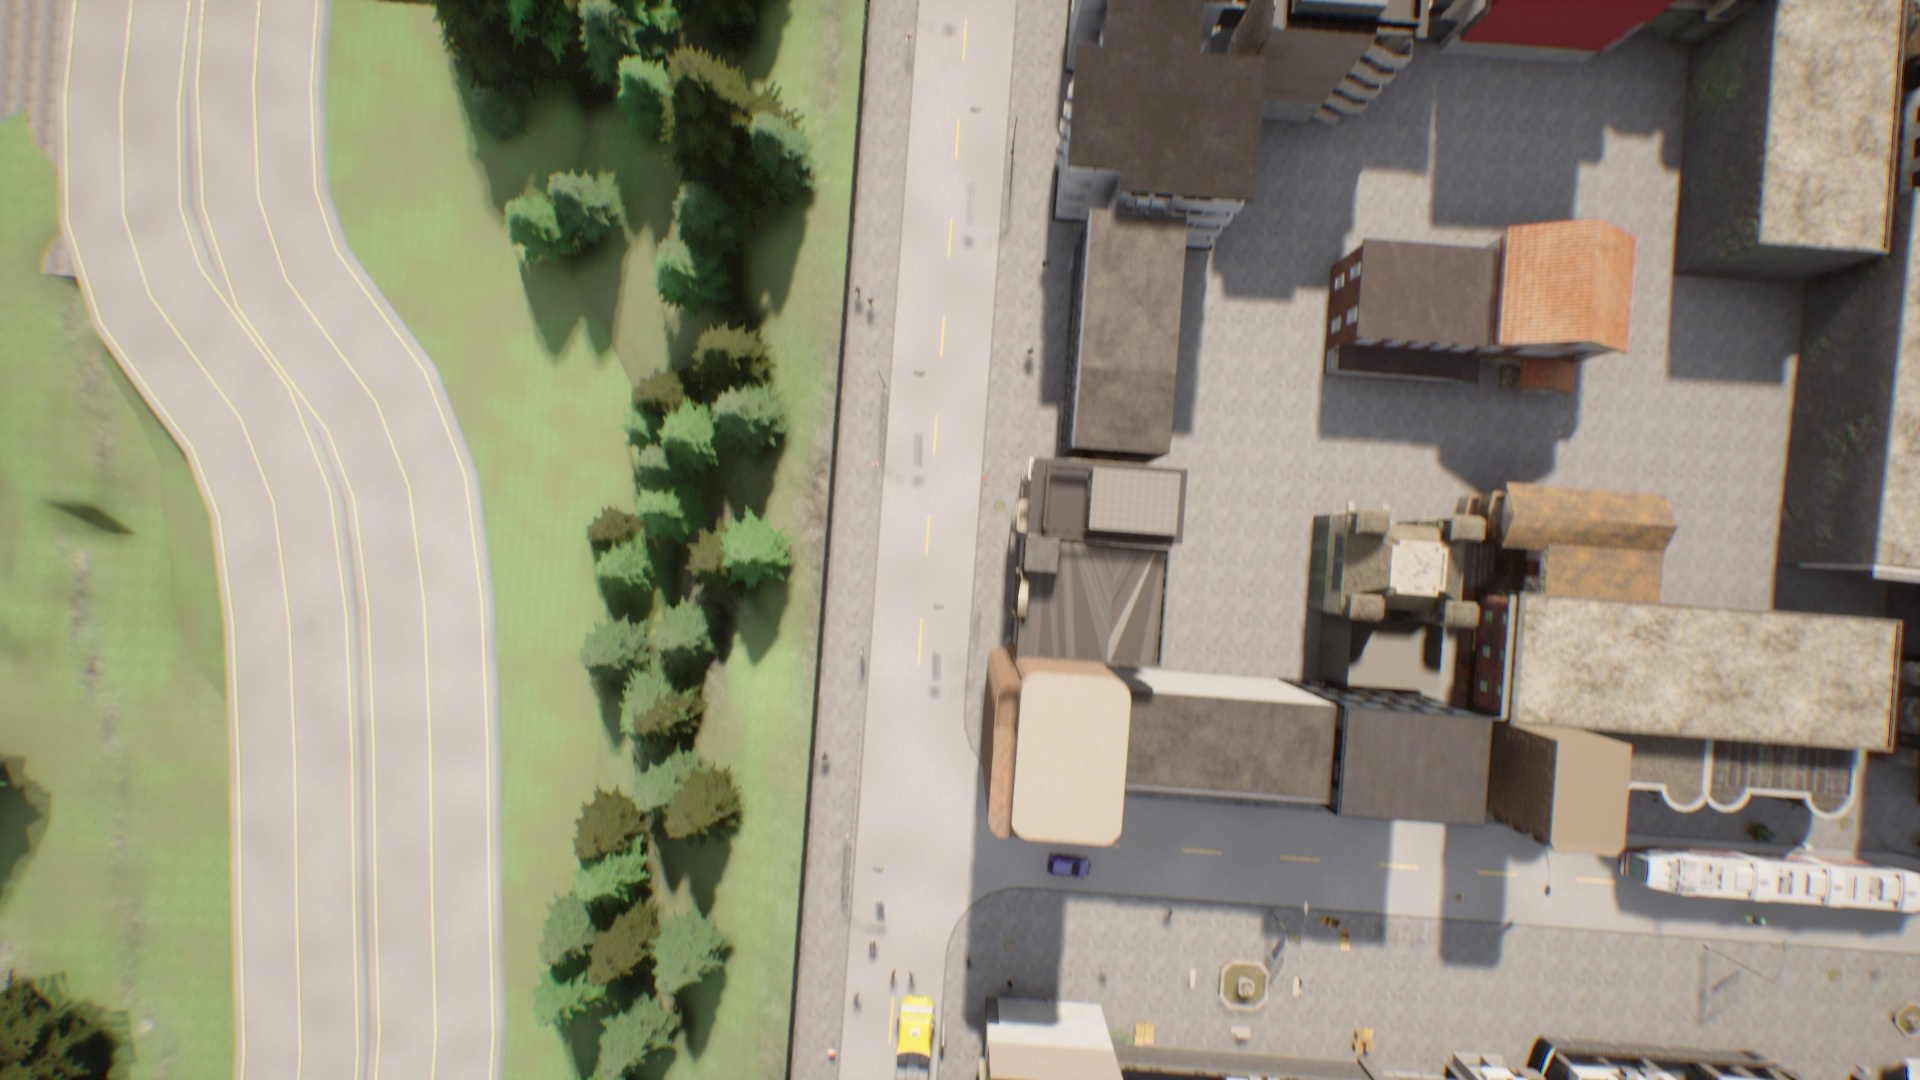Bus: (1625, 852, 1919, 924)
Car: (1044, 853, 1095, 877)
Truck: (898, 994, 939, 1080)
